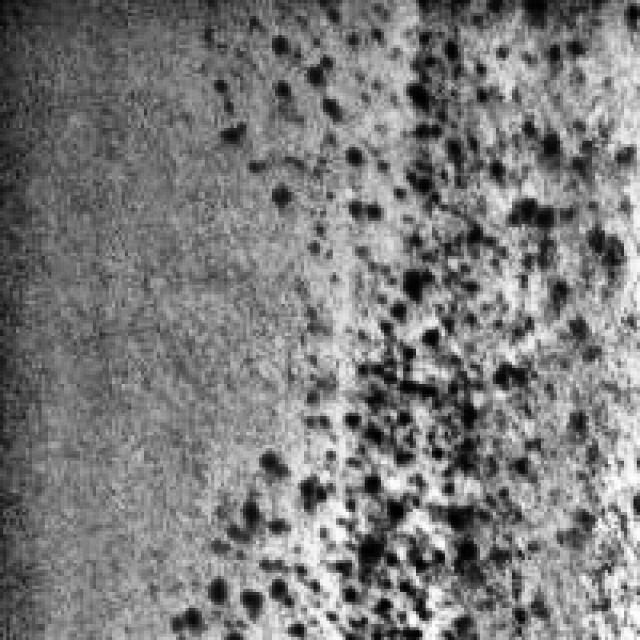Rolled_in_Scale: (176, 0, 589, 630)
